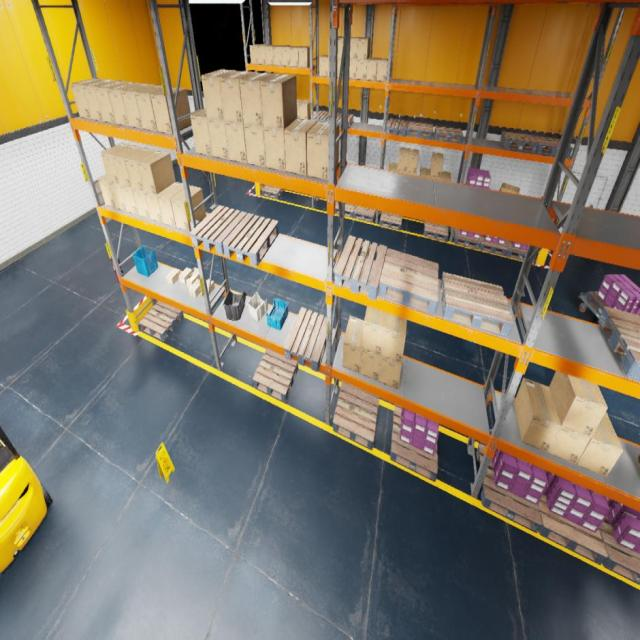box: (550, 370, 608, 437), (514, 378, 561, 452), (549, 388, 591, 464), (577, 412, 623, 478), (260, 74, 297, 130), (306, 121, 339, 180), (239, 72, 275, 126), (150, 87, 191, 134), (284, 118, 317, 176), (220, 71, 256, 123), (201, 70, 238, 120), (137, 150, 176, 195), (120, 84, 158, 128), (171, 185, 206, 232), (94, 80, 131, 124), (108, 82, 143, 126), (82, 80, 118, 121), (70, 78, 106, 119), (112, 145, 145, 187), (125, 147, 157, 190), (101, 143, 133, 184), (382, 313, 406, 364), (362, 306, 386, 356), (342, 316, 363, 373), (157, 182, 183, 228), (136, 86, 162, 131), (190, 107, 212, 156), (263, 126, 286, 172), (244, 124, 266, 167), (225, 122, 247, 164), (207, 118, 229, 159), (380, 356, 402, 390), (360, 349, 381, 381), (97, 174, 116, 208), (144, 191, 164, 223), (132, 188, 150, 218), (120, 185, 138, 215), (109, 182, 127, 211), (431, 153, 444, 177), (406, 149, 419, 173), (366, 58, 379, 80), (357, 37, 370, 59), (329, 36, 342, 58), (281, 46, 295, 66), (257, 44, 271, 64), (265, 44, 278, 65), (186, 268, 200, 287), (398, 147, 409, 171), (377, 58, 388, 82), (298, 46, 310, 67), (166, 268, 181, 284), (290, 46, 302, 66), (273, 45, 285, 65), (179, 267, 193, 284), (188, 279, 201, 297), (500, 183, 520, 194), (250, 44, 261, 64), (357, 59, 367, 80), (201, 279, 214, 295), (350, 36, 359, 58), (319, 54, 328, 76), (300, 100, 310, 119), (329, 58, 338, 77), (348, 59, 356, 79), (297, 99, 304, 118), (338, 36, 343, 58), (440, 171, 450, 181), (430, 170, 440, 180), (420, 168, 430, 178), (388, 162, 398, 172), (337, 58, 342, 77), (637, 453, 640, 475), (407, 172, 417, 176), (397, 170, 406, 174)
forklift: (0, 426, 52, 572)
pallets: (477, 443, 542, 533), (538, 492, 608, 565), (441, 272, 514, 338), (378, 249, 438, 315), (390, 406, 438, 481), (334, 236, 388, 300), (598, 306, 640, 380), (333, 383, 378, 450), (222, 213, 278, 266), (598, 517, 640, 585), (190, 205, 247, 255), (285, 307, 326, 372), (253, 348, 298, 402), (139, 301, 184, 341), (532, 136, 572, 158), (505, 240, 537, 264), (501, 132, 538, 152), (480, 234, 508, 256), (453, 228, 480, 250), (586, 291, 608, 316), (424, 221, 449, 242), (434, 126, 463, 144), (407, 122, 434, 139), (380, 212, 402, 230), (386, 119, 409, 136), (353, 206, 376, 222), (336, 162, 359, 176), (261, 185, 284, 199), (335, 201, 355, 217), (336, 112, 353, 130), (313, 111, 328, 121), (362, 166, 378, 168)
